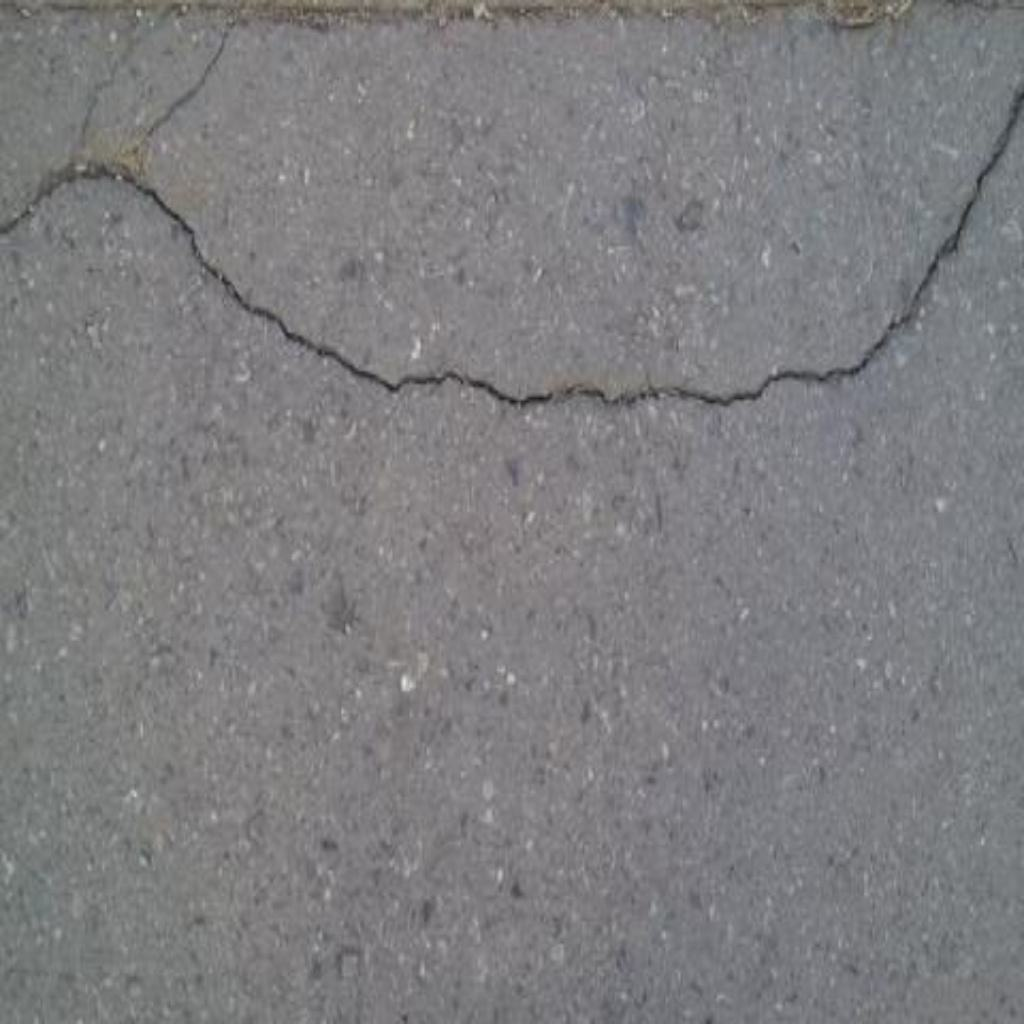Crack: (1, 82, 1024, 410)
